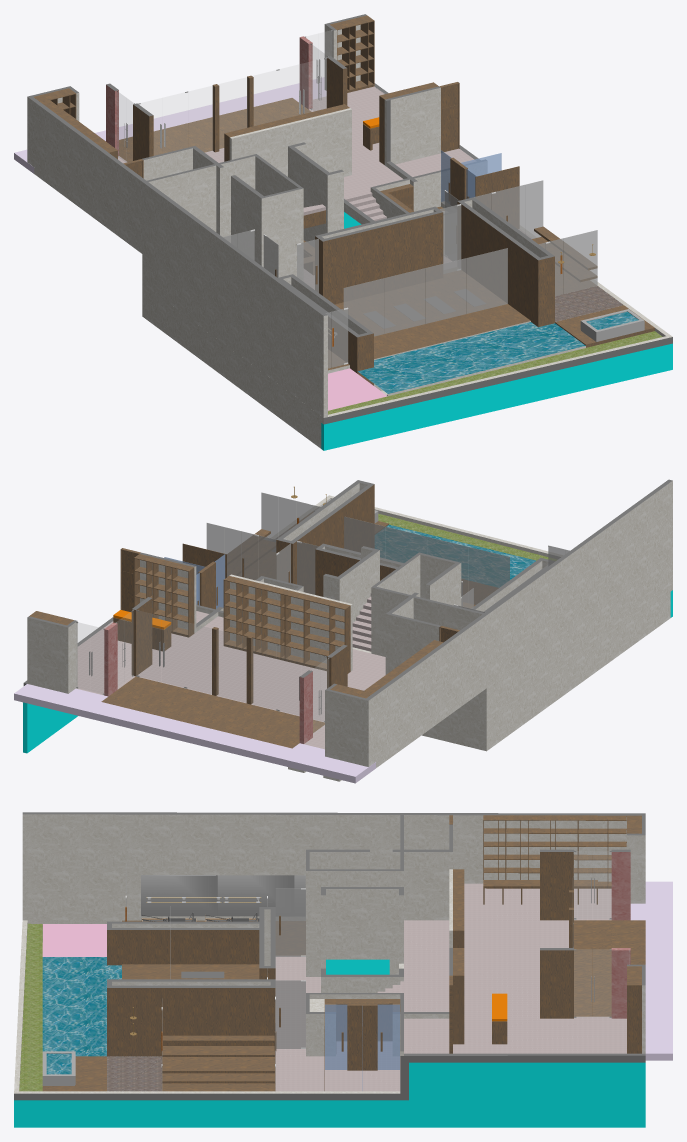
The model's file is CASA ARCA WELLNESS.glb.
The picture shows the model from 3 angles, top to bottom: view 1: azimuth 30°, elevation 25°; view 2: azimuth 150°, elevation 25°; view 3: azimuth 270°, elevation 25°; orthographic projection. The views are drawn at different scales.
Parts seen in each view (by area): view 1: Geom3D_ (×40), Geom3D (×18); view 2: Geom3D_ (×43), Geom3D (×22); view 3: Geom3D_ (×44), Geom3D (×21).
Part boxes in pixels (box(x1,y1,x2,y2)): Geom3D_ (×40): box(27, 24, 672, 450); Geom3D (×18): box(14, 58, 672, 424); Geom3D_ (×43): box(23, 481, 672, 767); Geom3D (×22): box(14, 479, 672, 783); Geom3D_ (×44): box(14, 814, 645, 1127); Geom3D (×21): box(14, 812, 672, 1100).
Bounding box in the file's own units: 16.48 × 9.15 × 26.18.
34 materials, 15 textured.
